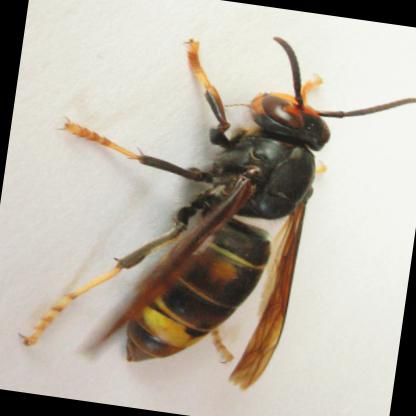asian: (11, 27, 402, 408)
